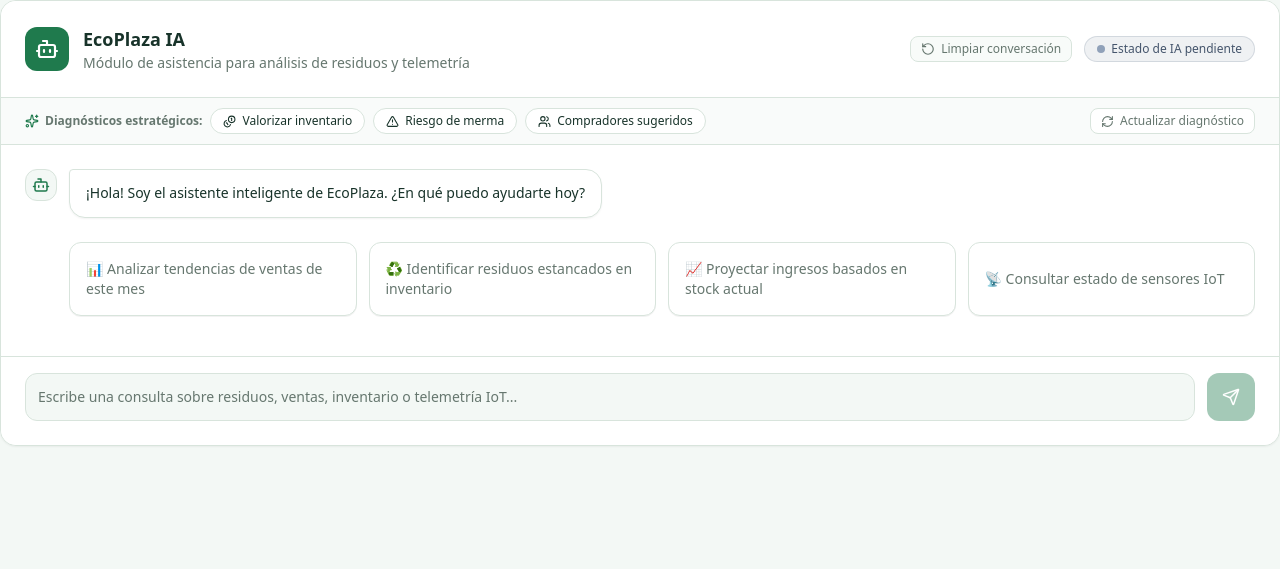
Test case: AssistantPanel con Motor de Diagnósticos Estratégicos (Tarea 088) › g) muestra el distintivo 'Gemini AI' y formato Markdown cuando la respuesta proviene del motor de IA
The image size is (1280, 569).
Step 1. Replace the text in the field labelled "Escribe una consulta sobre residuos, ventas, inventario o telemetría IoT..." with "¿Qué hacer con el stock?" → (610, 397), box [38,374,1182,420]
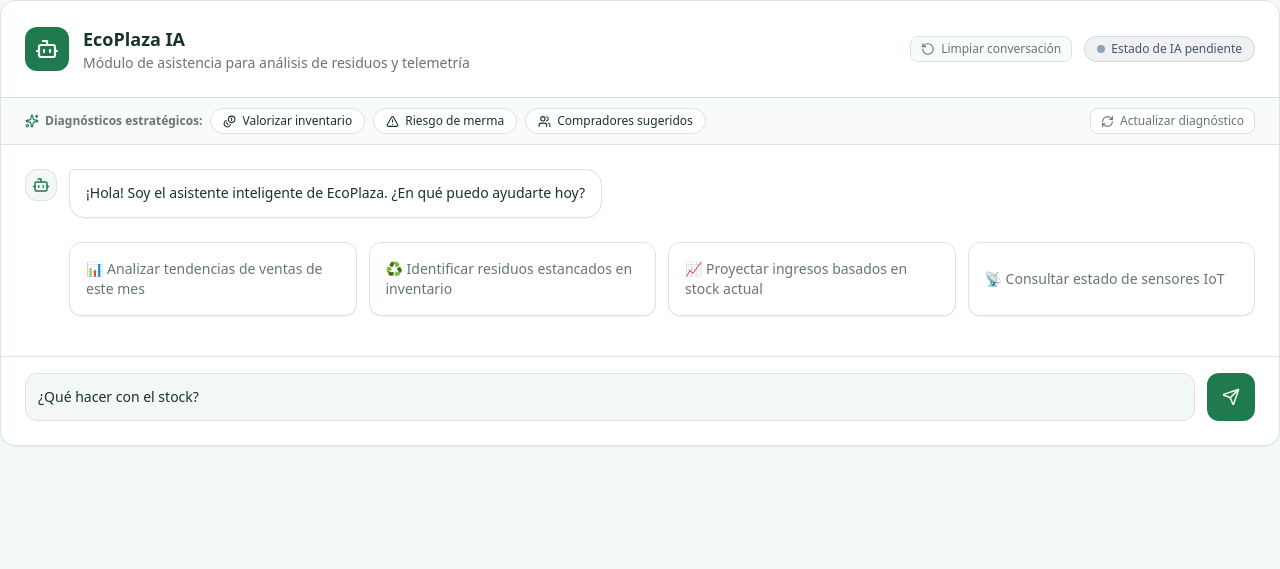
Step 2. Click the button named "Enviar mensaje" → click(1231, 397), box [1207,373,1255,421]
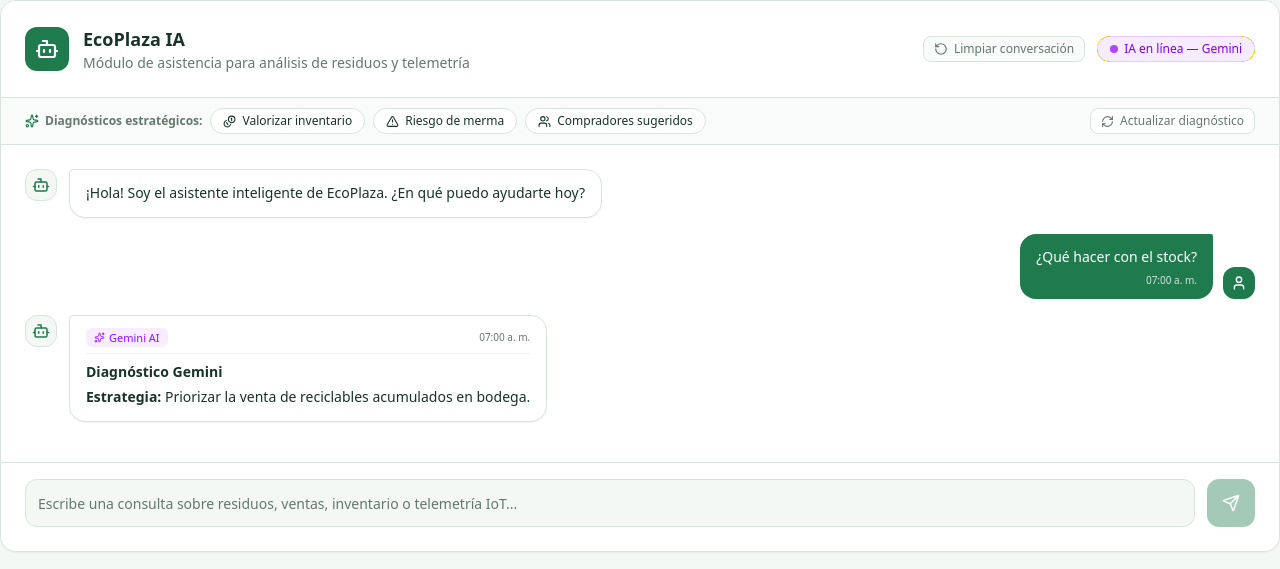
Expected: the text "Gemini AI" is shown, [109,330,160,346]
Expected: the heading "Diagnóstico Gemini" is shown, [86,362,222,382]
Expected: the text "Estrategia:" is shown, [86,388,161,406]
